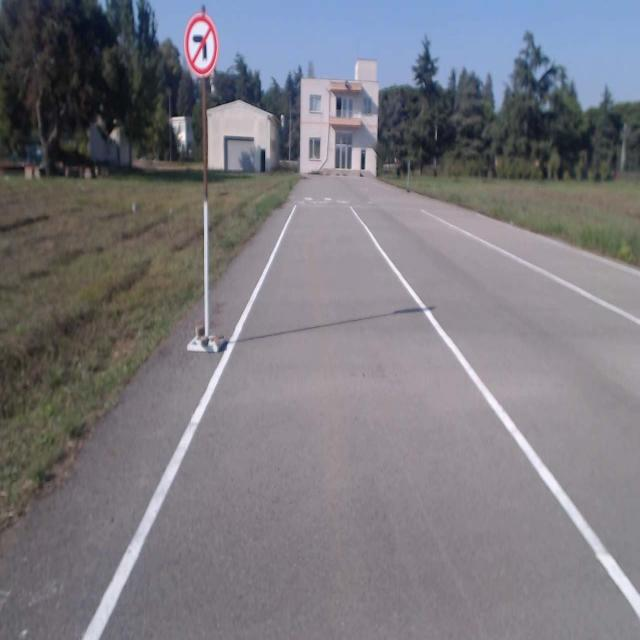soladonulmez: (182, 17, 218, 74)
